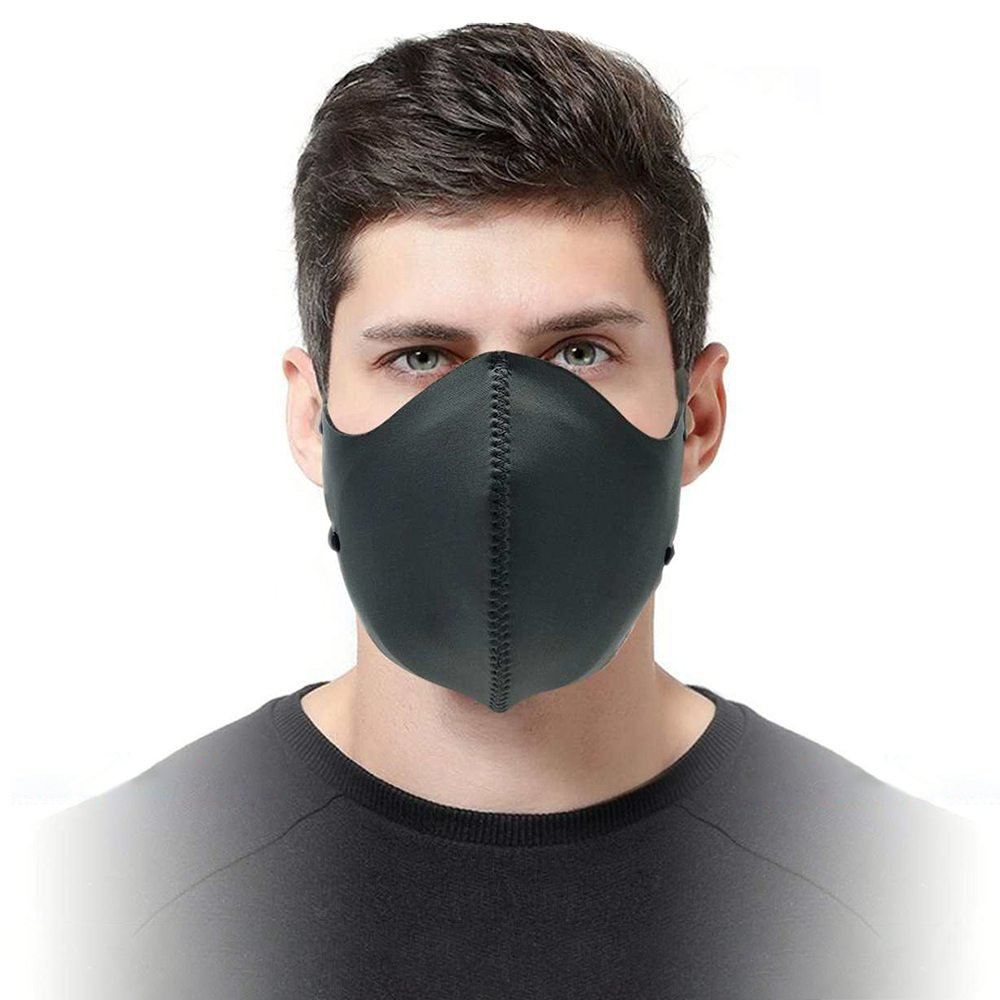mask: (256, 26, 799, 718)
